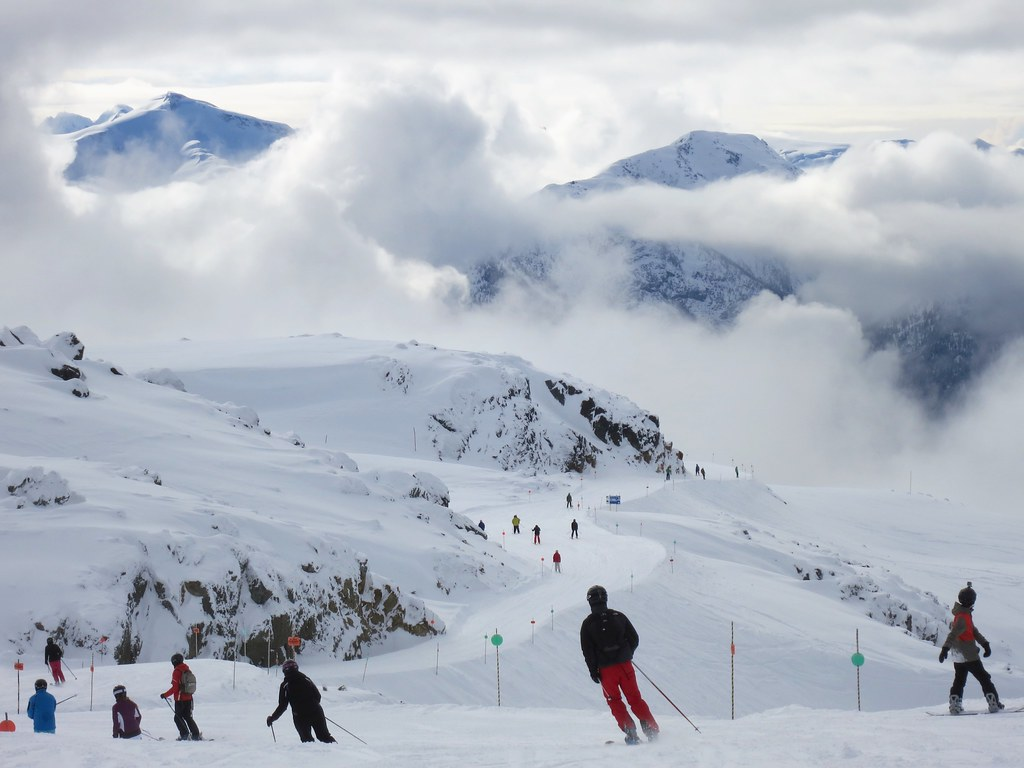skier: (569, 583, 707, 748), (265, 659, 370, 763), (160, 653, 218, 744), (44, 635, 79, 690), (550, 549, 567, 574), (566, 517, 583, 541), (510, 514, 525, 535), (530, 524, 544, 545), (565, 491, 575, 510)
snowboarder: (924, 581, 1024, 719)
